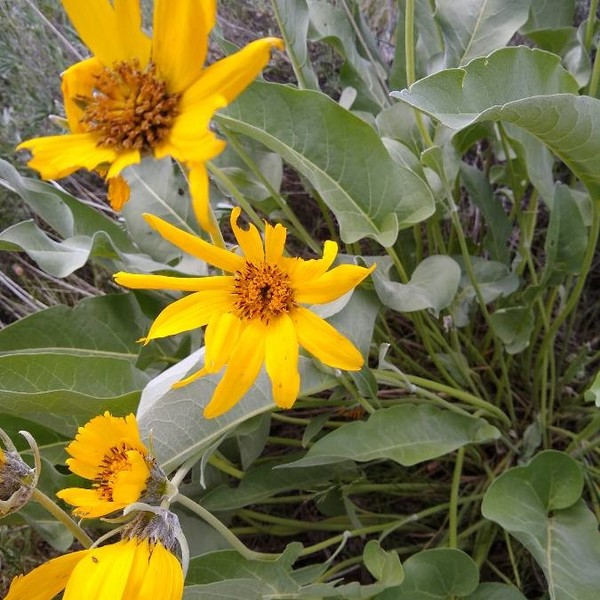obstacle: (47, 17, 566, 436), (46, 360, 314, 596)
